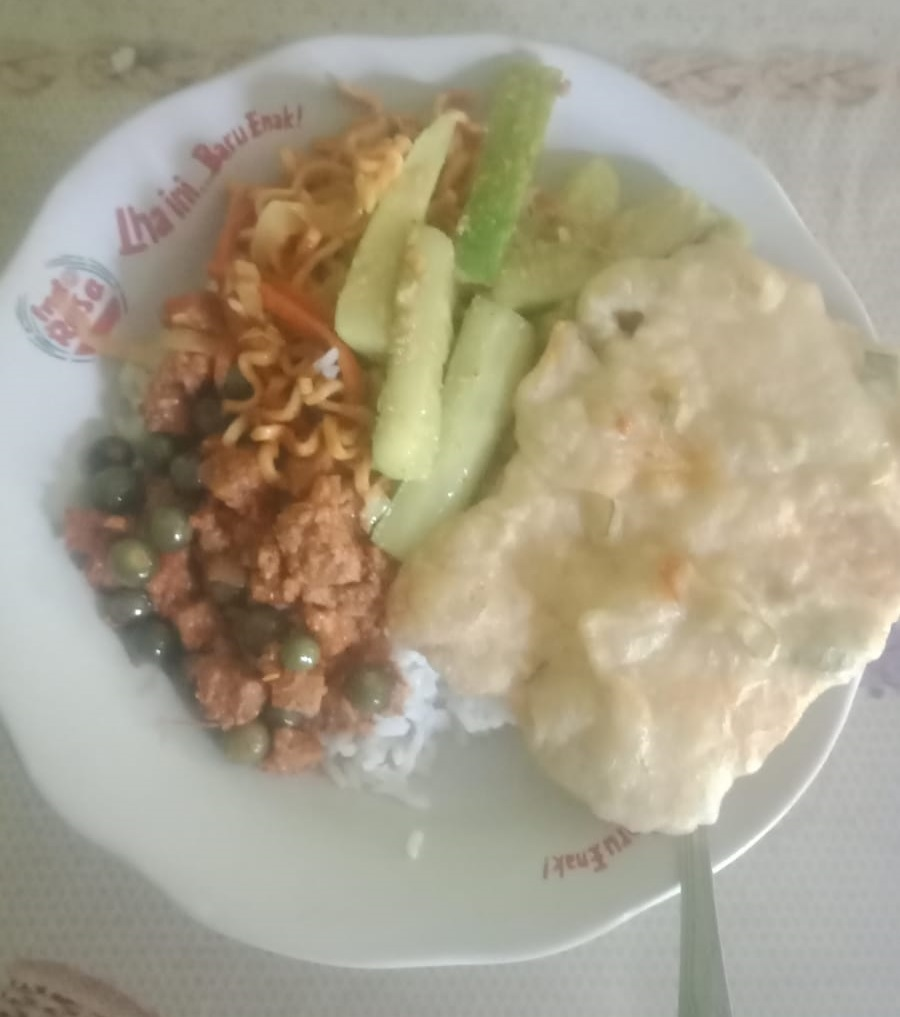Gorengan: (547, 303, 887, 775)
Mie: (89, 103, 339, 411)
Nasi: (365, 732, 509, 836)
Sayur_timun: (368, 64, 523, 450)
Tumis_oncom_cepokak: (53, 438, 351, 791)
